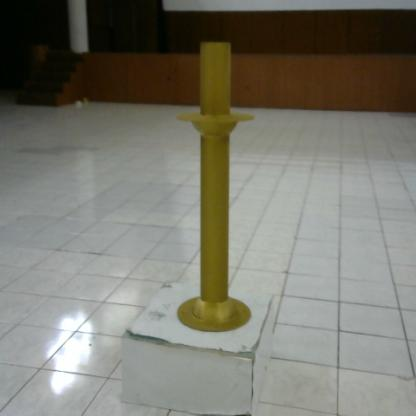pole: (171, 31, 257, 337)
